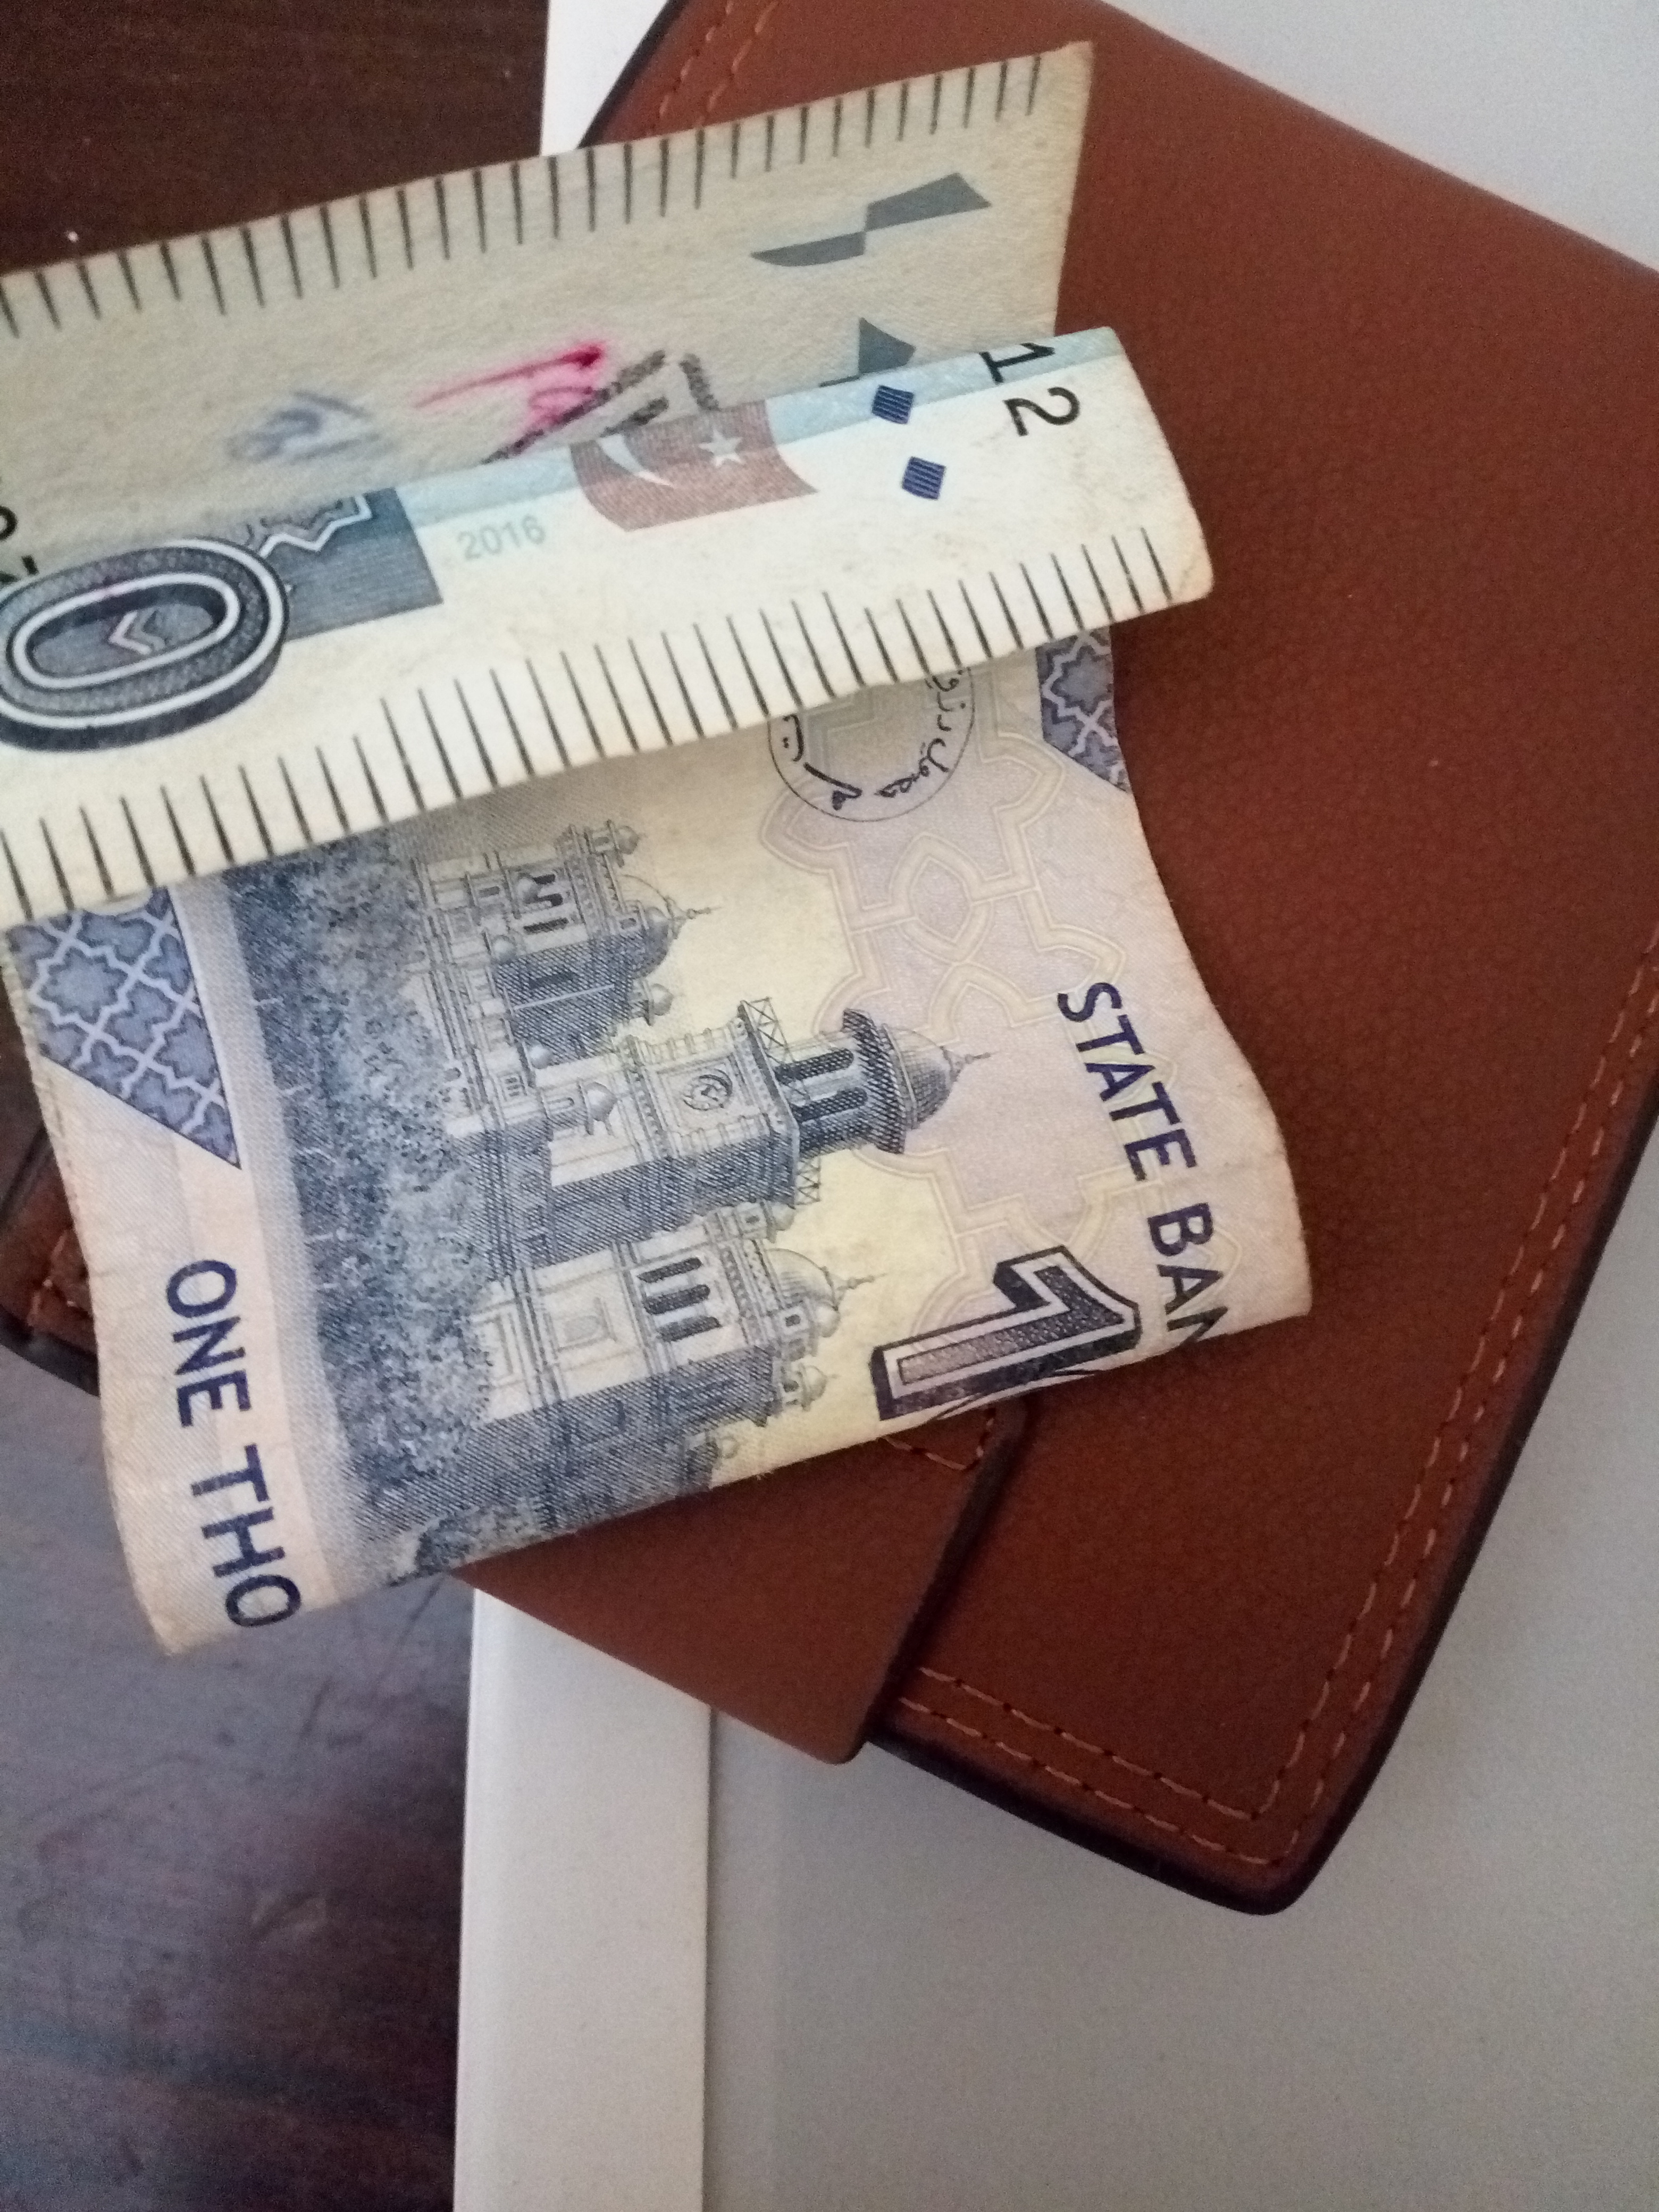1000 rupee: (30, 38, 1314, 1665)
